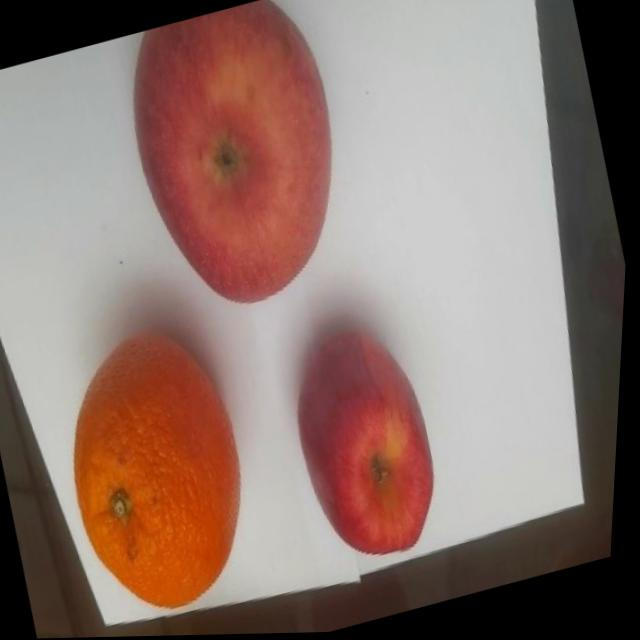Apple: (105, 0, 376, 326), (275, 315, 464, 574)
Orange: (41, 312, 283, 629)
